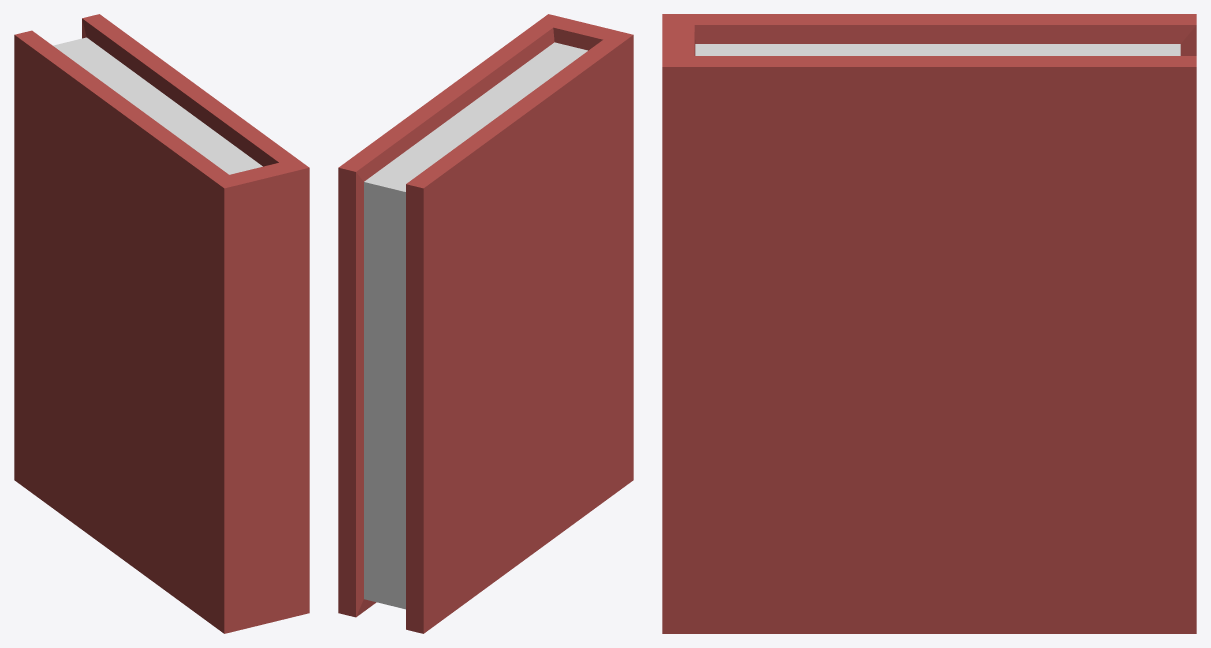
Rendered from bookred.fbx.
The picture shows the model from 3 angles, left to right: view 1: azimuth 30°, elevation 25°; view 2: azimuth 150°, elevation 25°; view 3: azimuth 270°, elevation 25°; orthographic projection. The views are drawn at different scales.
Visible parts, largest first — view 1: Book_04; view 2: Book_04; view 3: Book_04.
Boxes of the visible parts, bbox=[...] form: Book_04: bbox=[14, 14, 309, 633]; Book_04: bbox=[338, 14, 633, 633]; Book_04: bbox=[662, 14, 1196, 633].
Size of the model in its own units: 9.58 by 47.91 by 40.92.
